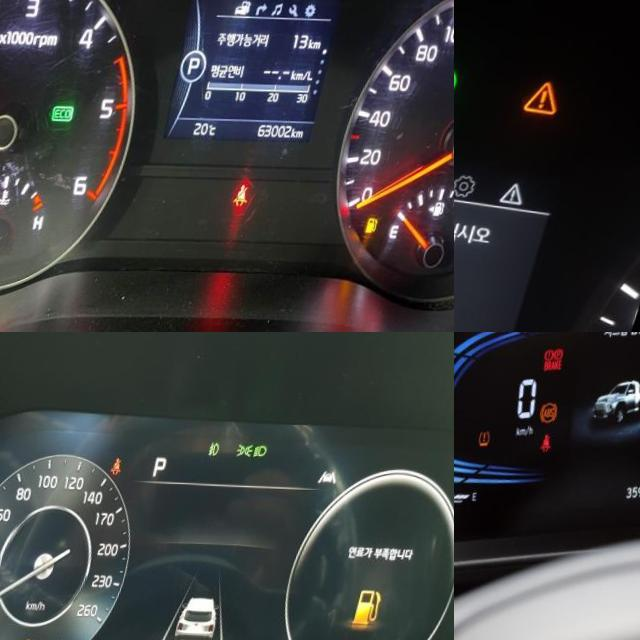Central Warning lamp: (528, 76, 574, 112)
FrontFogLight: (454, 61, 468, 95), (215, 438, 229, 454)
Low beam: (261, 441, 276, 455)
Low fuel level: (368, 586, 398, 621), (39, 637, 52, 640)
SideLamp: (243, 440, 262, 455)
